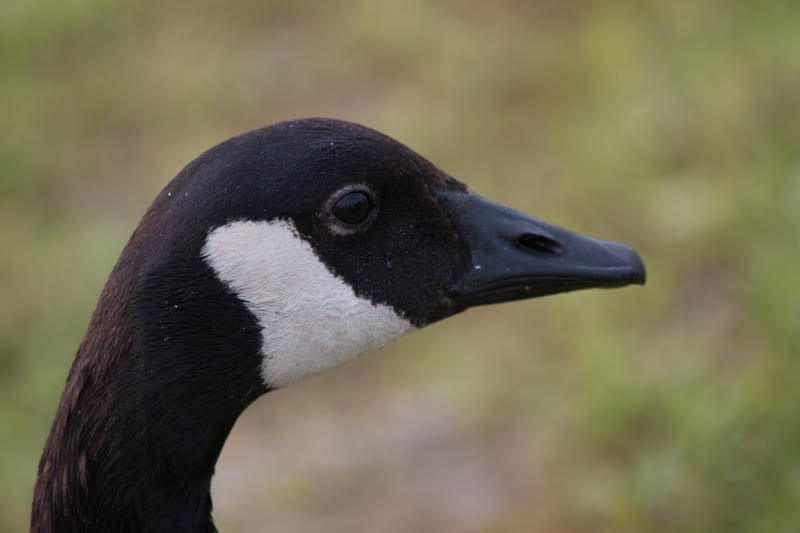goose-head: (115, 117, 648, 394)
